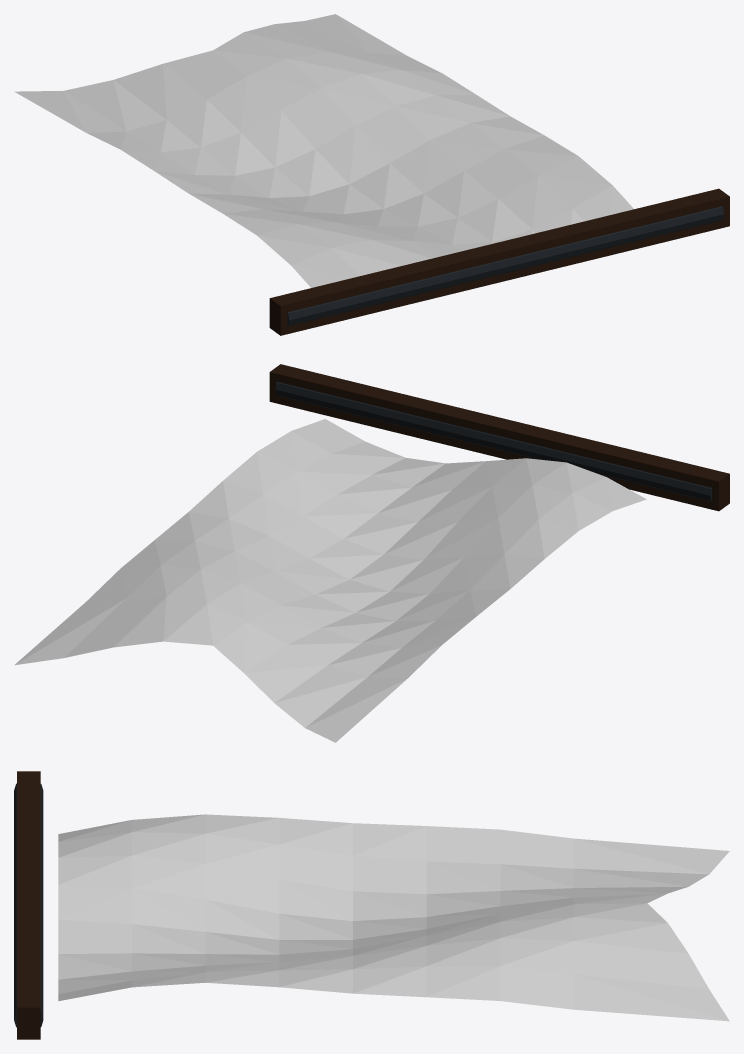
File: Northern_Wolf_Banner.obj
The picture shows the model from 3 angles, top to bottom: view 1: azimuth 30°, elevation 25°; view 2: azimuth 150°, elevation 25°; view 3: azimuth 270°, elevation 25°; orthographic projection. The views are drawn at different scales.
Visible parts, largest first — view 1: Northern_Wolf_Banner; view 2: Northern_Wolf_Banner; view 3: Northern_Wolf_Banner.
Part boxes in pixels (box(x1,y1,x2,y2)): Northern_Wolf_Banner: box(14, 14, 729, 335); Northern_Wolf_Banner: box(14, 364, 729, 742); Northern_Wolf_Banner: box(14, 771, 729, 1039).
Size of the model in its own units: 190 by 19.8 by 243.
